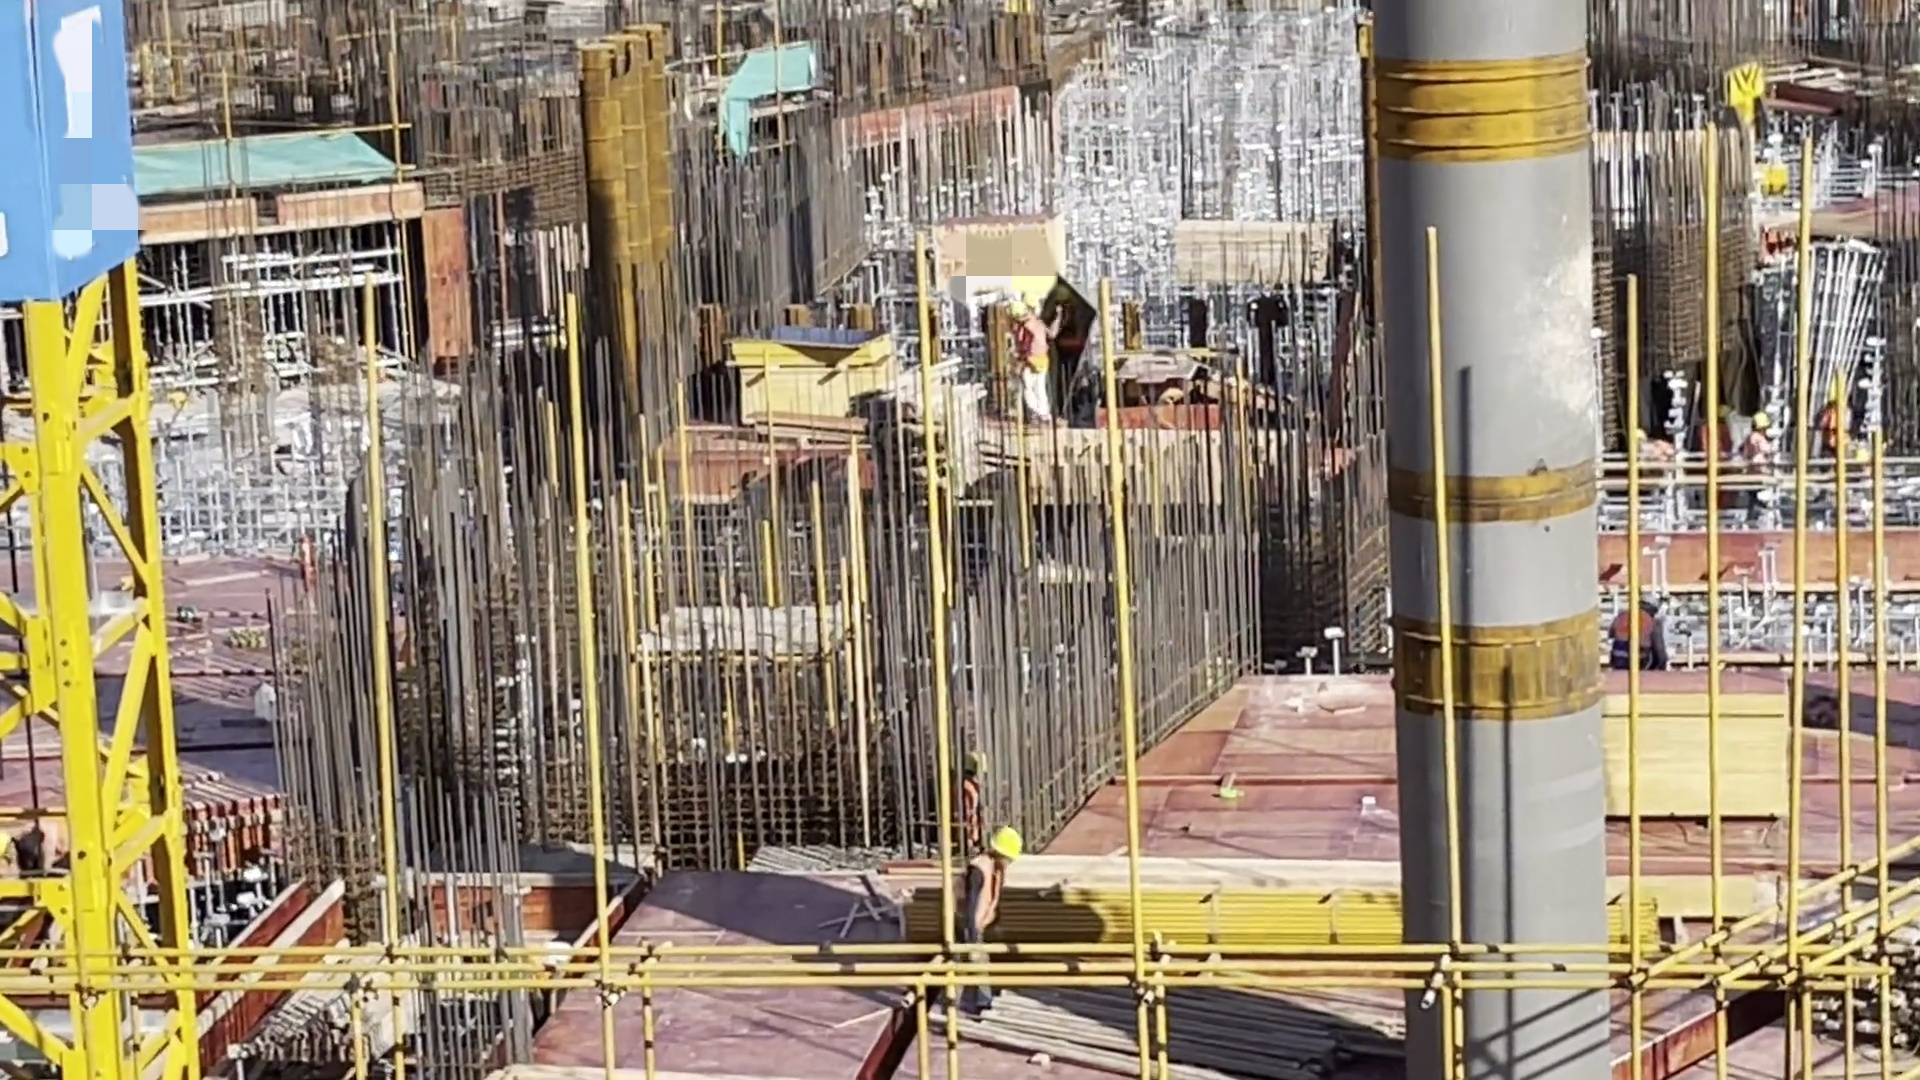board: (1609, 666, 1788, 824), (1173, 207, 1371, 282), (939, 217, 1056, 289)
helmet: (995, 822, 1020, 854), (970, 746, 994, 776), (1634, 593, 1660, 609), (1752, 407, 1769, 428), (1827, 385, 1842, 404), (1712, 403, 1731, 415), (1011, 301, 1024, 316), (1028, 298, 1040, 315)
hook: (1708, 44, 1766, 149)
person: (966, 818, 1014, 1018), (1011, 298, 1054, 409), (1824, 389, 1877, 473), (1617, 596, 1666, 672), (958, 751, 993, 831), (1705, 401, 1736, 468), (1750, 414, 1776, 473)
vest: (951, 852, 1001, 941), (1016, 317, 1054, 367), (1620, 609, 1652, 659), (1706, 425, 1732, 466), (961, 792, 989, 826), (1827, 403, 1848, 444), (1749, 434, 1765, 468)
wood: (864, 384, 976, 477)
